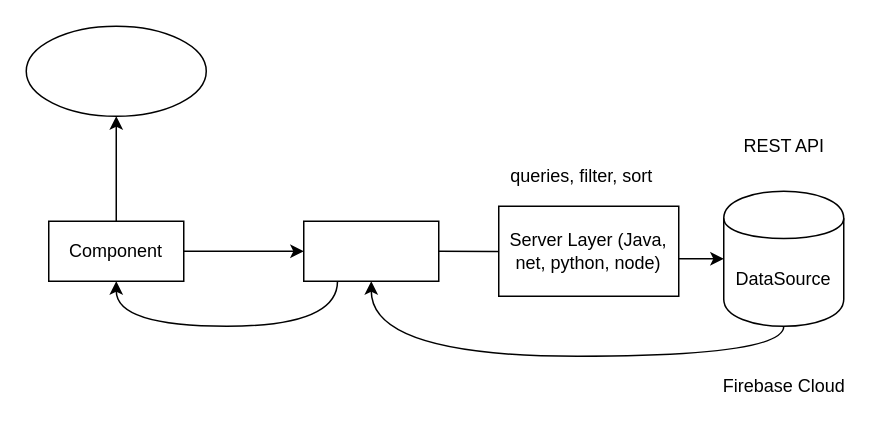
This 885x428 diagram has some shape labels left out. The shapes that lost their labels are listed below. From the top down, each one's box as (x1, y1, x2, y2) in pixels, then its label:
(25, 25, 206, 116): UI
(302, 220, 439, 281): Service
